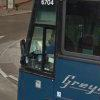Bus: (18, 2, 98, 100)
